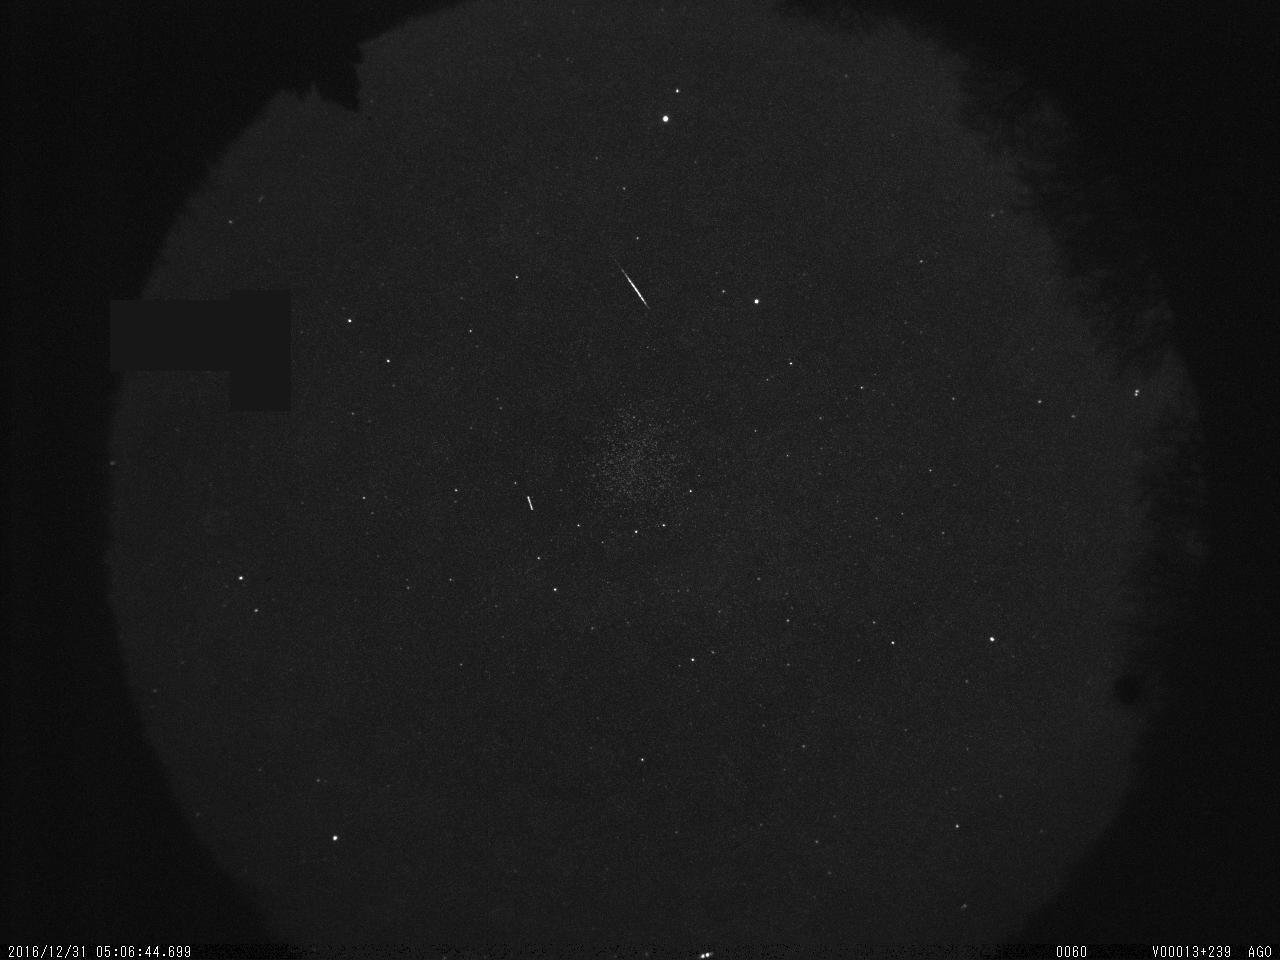meteor: (609, 250, 660, 327)
